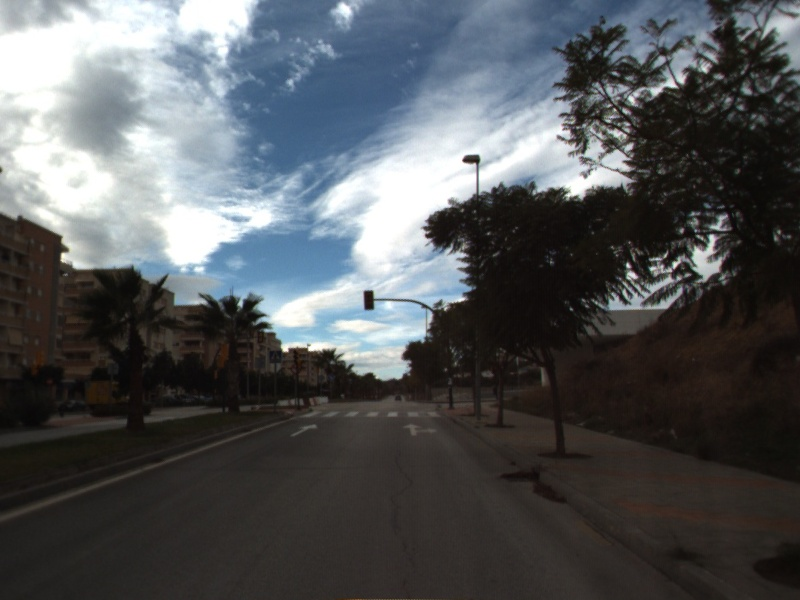STRAIGHT: (288, 421, 320, 438)
STRAIGHT_RIGHT: (401, 421, 439, 438)
